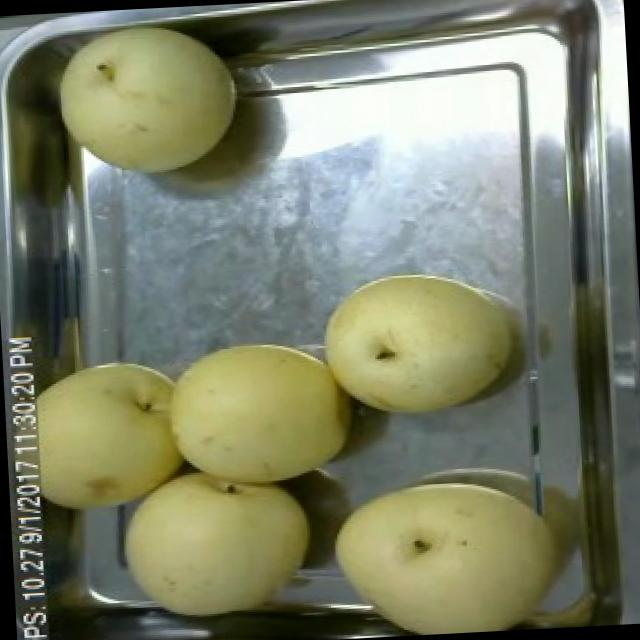Fruit: (316, 461, 574, 640), (104, 462, 324, 640), (38, 8, 248, 192), (305, 258, 527, 430), (152, 328, 366, 495), (9, 349, 199, 530)
